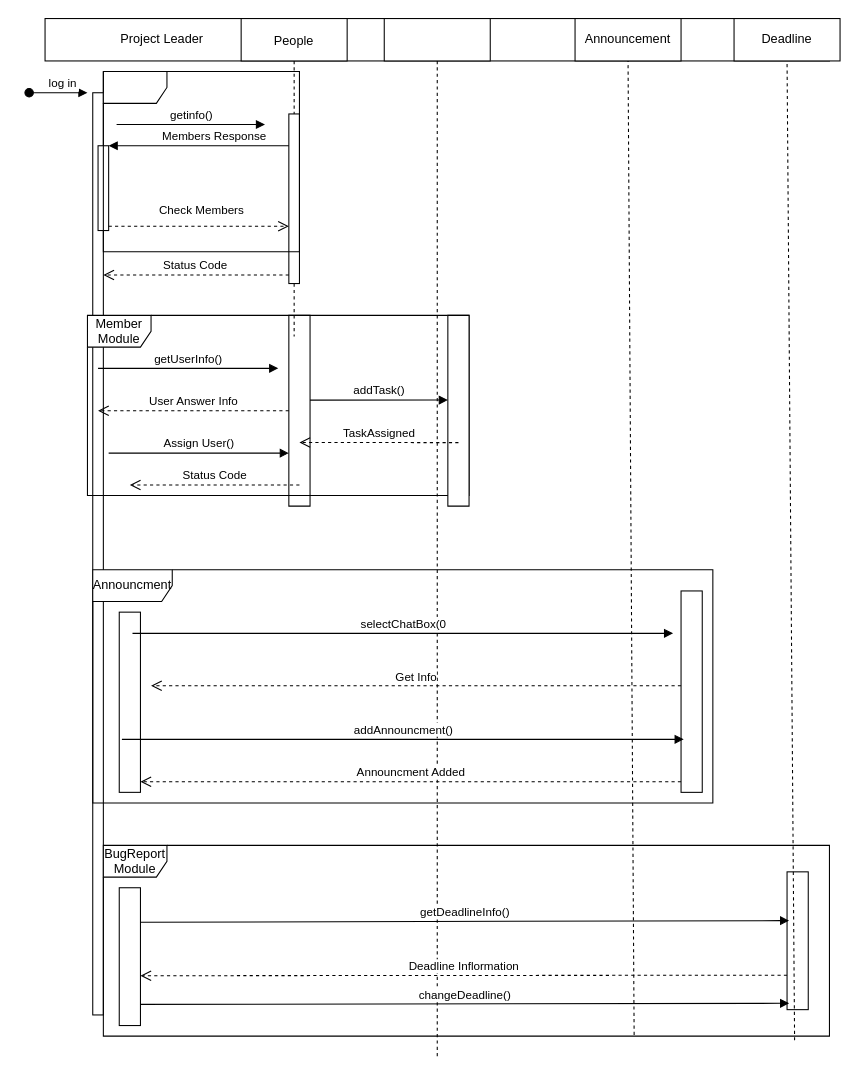
Some shapes in this 859 by 1076 pixel diagram are drawn without their labels. Here are the shapes that lost their labels. From the top down, the centre of each, then its label:
the point at 436,39: Tasks
the point at 200,161: Dashboard
